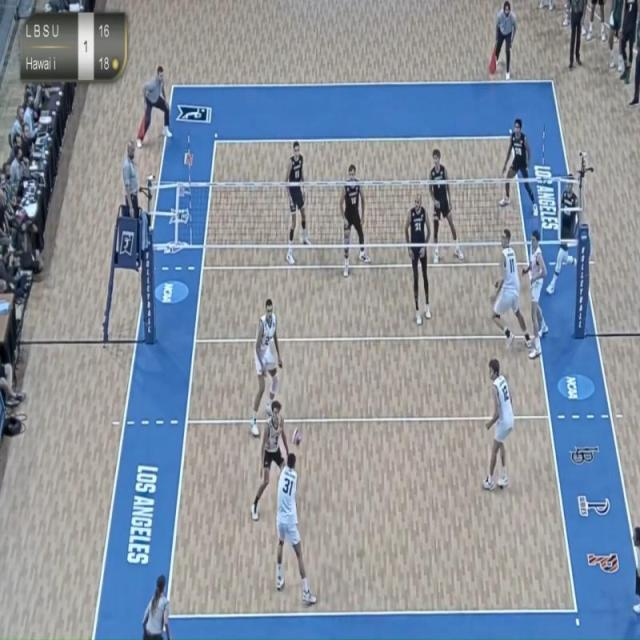volleyball: (289, 423, 305, 448)
